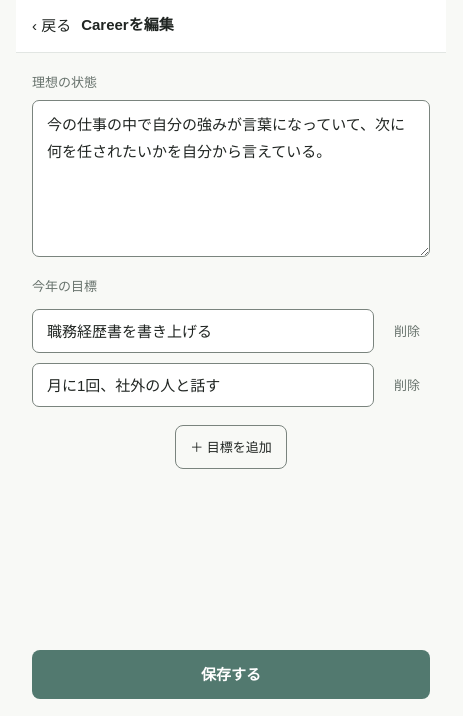
Test case: S-58 › 「＋ 目標を追加」で3つ目の欄が増え、3つに達すると消える
The width and height of the screenshot is (463, 716).
Click the button with class "s58__ghost-button" at (231, 447), box [175,425,287,469]
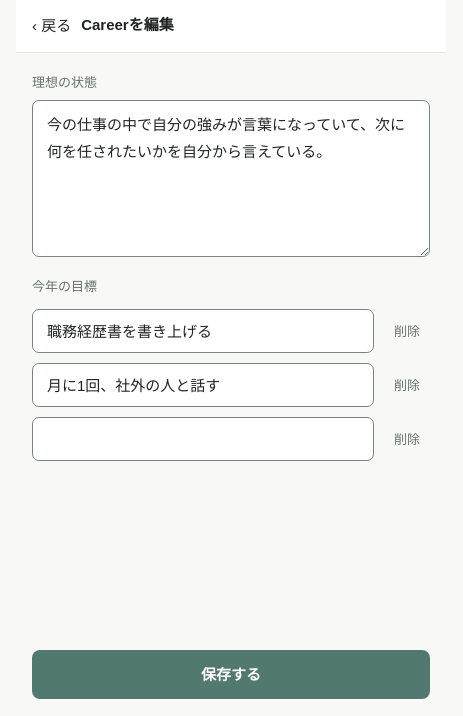
Expected: the number of fields with class "s58__input" is 3, [32,309,374,353]; [32,363,374,407]; [32,417,374,461]
